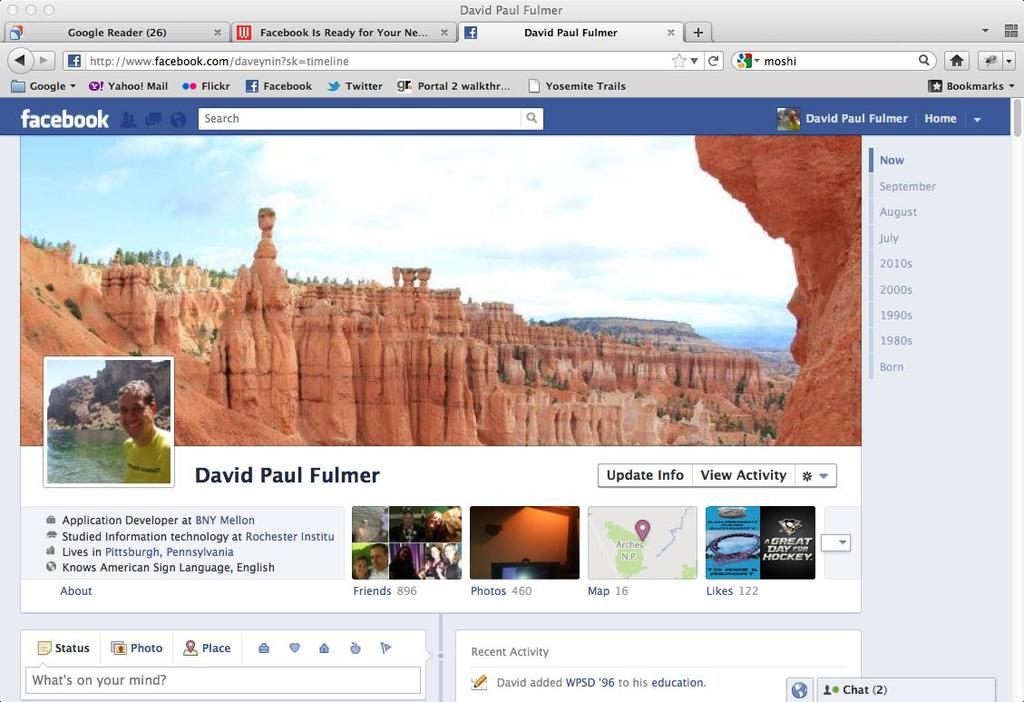Person: (118, 376, 170, 487)
